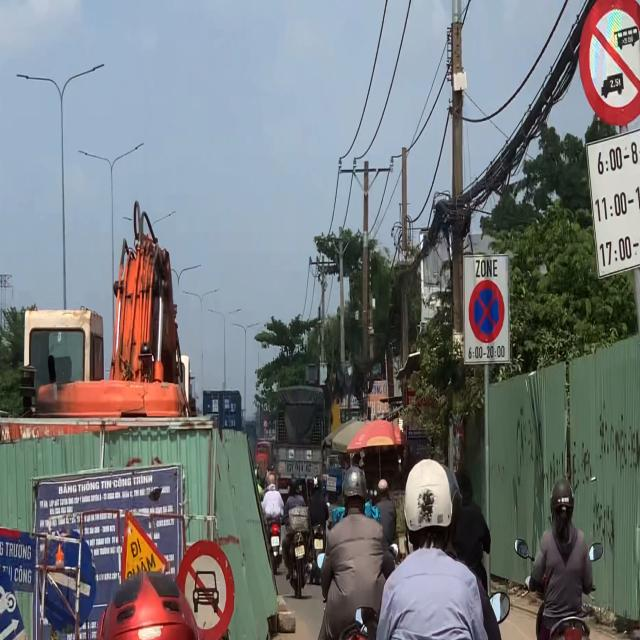Cam con lai: (577, 1, 640, 128), (177, 538, 235, 640)
Cam dung va do: (468, 280, 504, 343)
